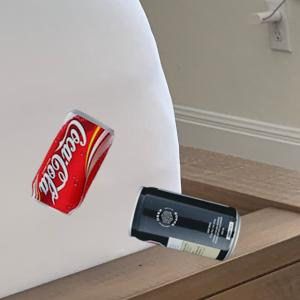can: (29, 109, 118, 214), (128, 184, 243, 260)
